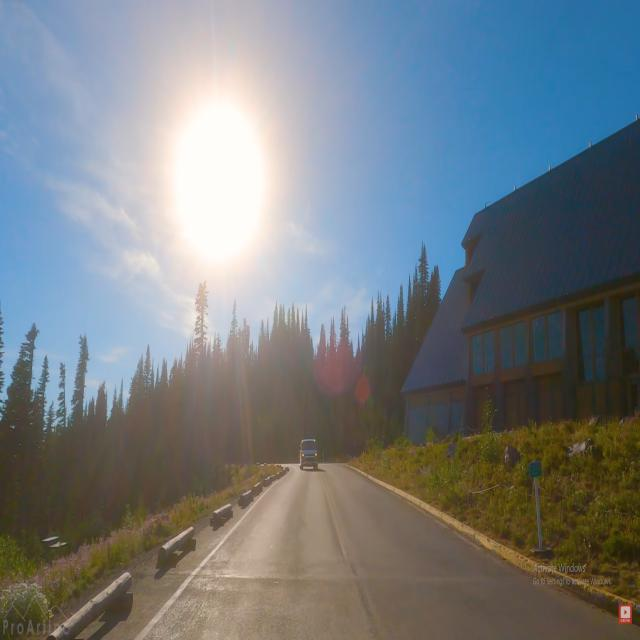sun: (140, 79, 284, 303)
